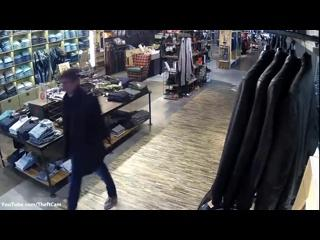Normal: (59, 66, 117, 209)
